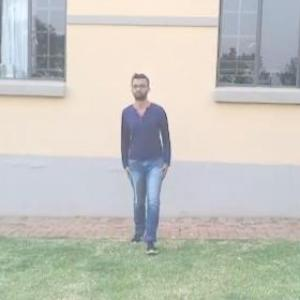follow: (110, 58, 180, 277)
